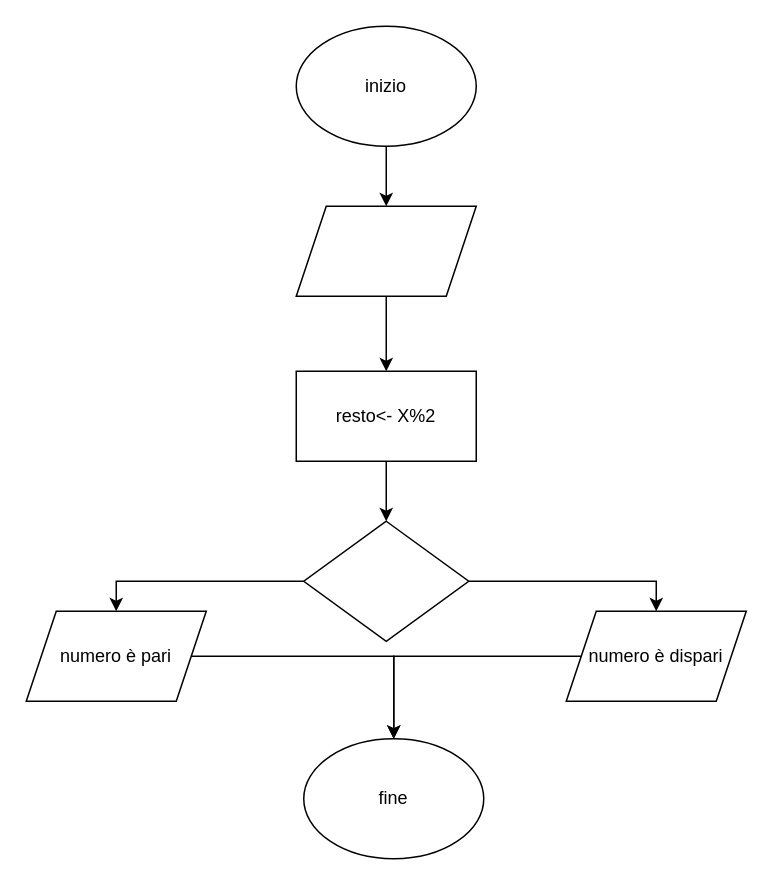
Image size: 773x885. Some labels were removed from this diagram. Here are the shapes that lost their labels. From the top down, the centre of each, then its label:
the point at 385,250: leggere X
the point at 385,580: se resto = 0
